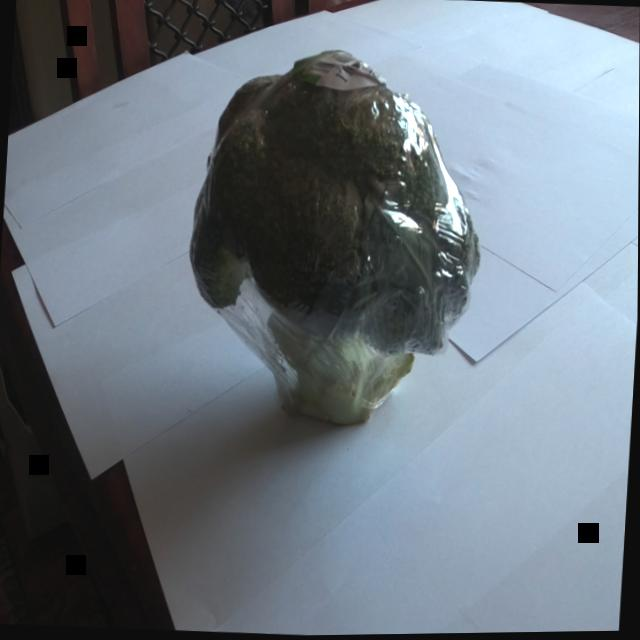Broccoli: (175, 37, 514, 462)
